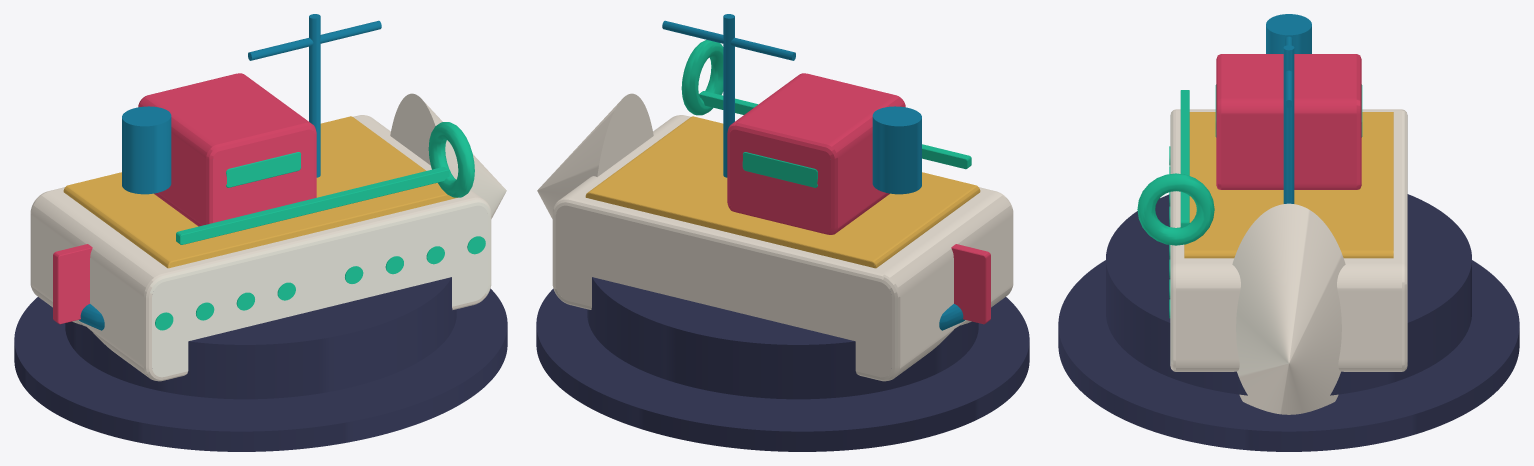
File: 1170_海底两万里_亚特兰蒂斯.glb
3 views of the same model, side by side, from view 1: azimuth 30°, elevation 25°; view 2: azimuth 150°, elevation 25°; view 3: azimuth 270°, elevation 25° (orthographic).
Parts seen in each view (by area): view 1: card_1170; view 2: card_1170; view 3: card_1170.
Part boxes in pixels (left/top/right/bottom): card_1170: left=14, top=14, right=507, bottom=451; card_1170: left=536, top=14, right=1029, bottom=451; card_1170: left=1058, top=14, right=1519, bottom=451.
Size of the model in its own units: 1.44 by 1 by 1.24.
